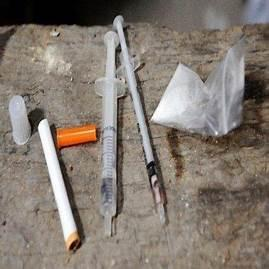Syringe: (93, 11, 174, 244)
